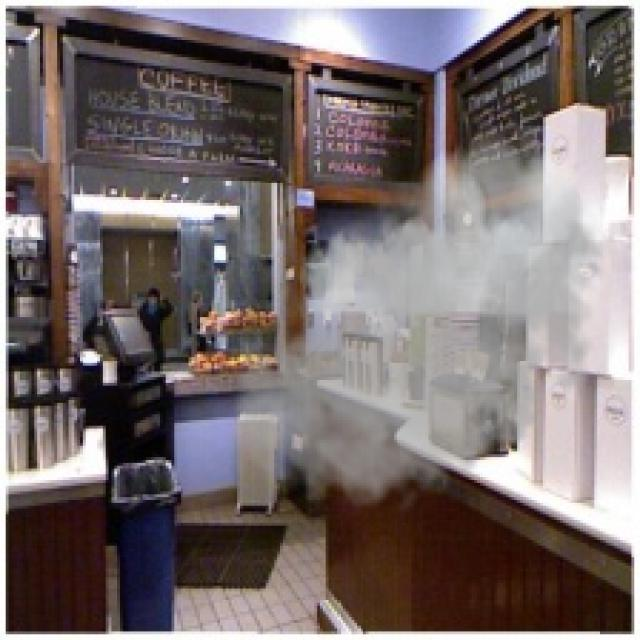smoke: (226, 126, 617, 523)
